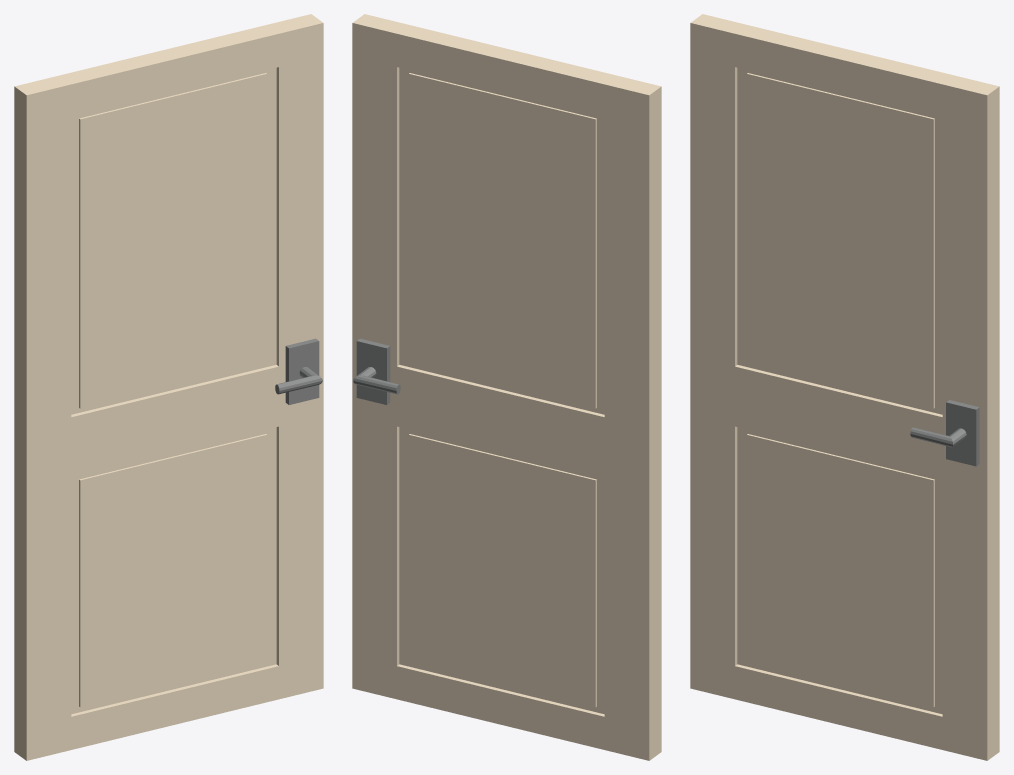
Rendered from M_Sem4_Prop_TuerRahmen_FHaufe.fbx.
3 views of the same model, side by side, from view 1: azimuth 30°, elevation 25°; view 2: azimuth 150°, elevation 25°; view 3: azimuth 330°, elevation 25° (orthographic).
Visible parts, largest first — view 1: tuerrahmen; view 2: tuerrahmen; view 3: tuerrahmen.
Boxes of the visible parts, x1,y1,x2,y2 form: tuerrahmen: (14,14,323,760); tuerrahmen: (352,14,661,760); tuerrahmen: (690,14,999,760).
Size of the model in its own units: 98.5 by 211 by 26.32.
